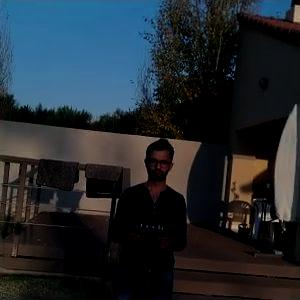follow: (103, 129, 189, 298)
